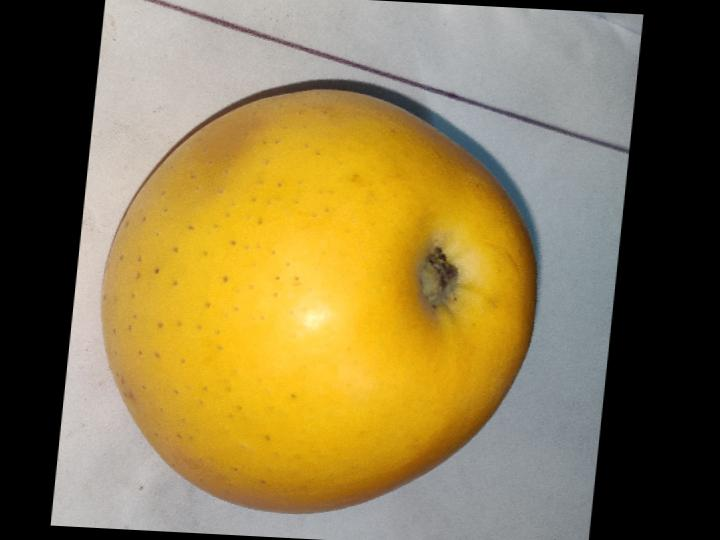apple: (101, 89, 534, 513)
